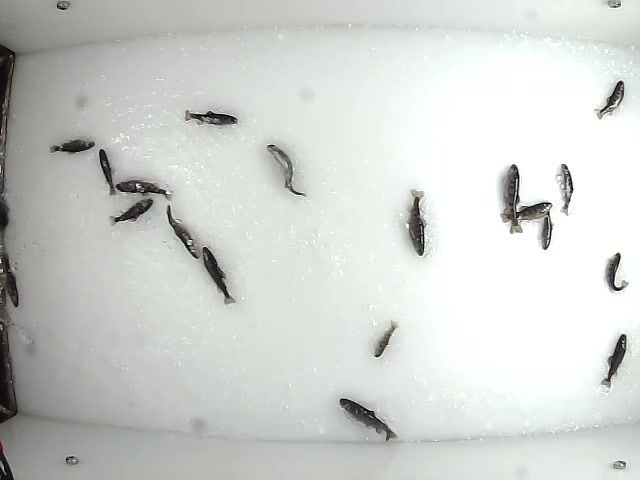fish: (337, 396, 400, 442), (261, 142, 306, 196), (200, 245, 238, 307), (163, 203, 201, 261), (106, 192, 154, 230), (405, 187, 429, 258), (501, 161, 524, 235), (596, 334, 627, 387), (113, 178, 172, 201), (593, 79, 624, 121), (498, 200, 552, 224), (552, 160, 573, 217), (370, 319, 399, 358), (603, 250, 629, 293), (183, 108, 240, 126), (97, 147, 117, 198), (48, 135, 96, 155), (537, 206, 553, 252)
